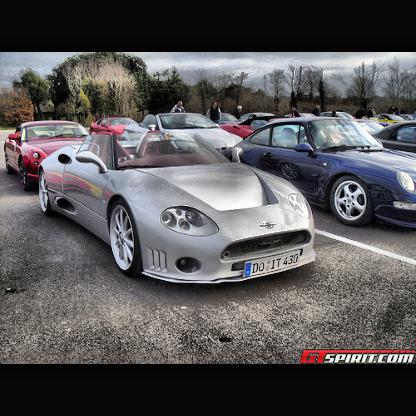Spyker C8 Convertible 2009: (38, 129, 318, 292)
